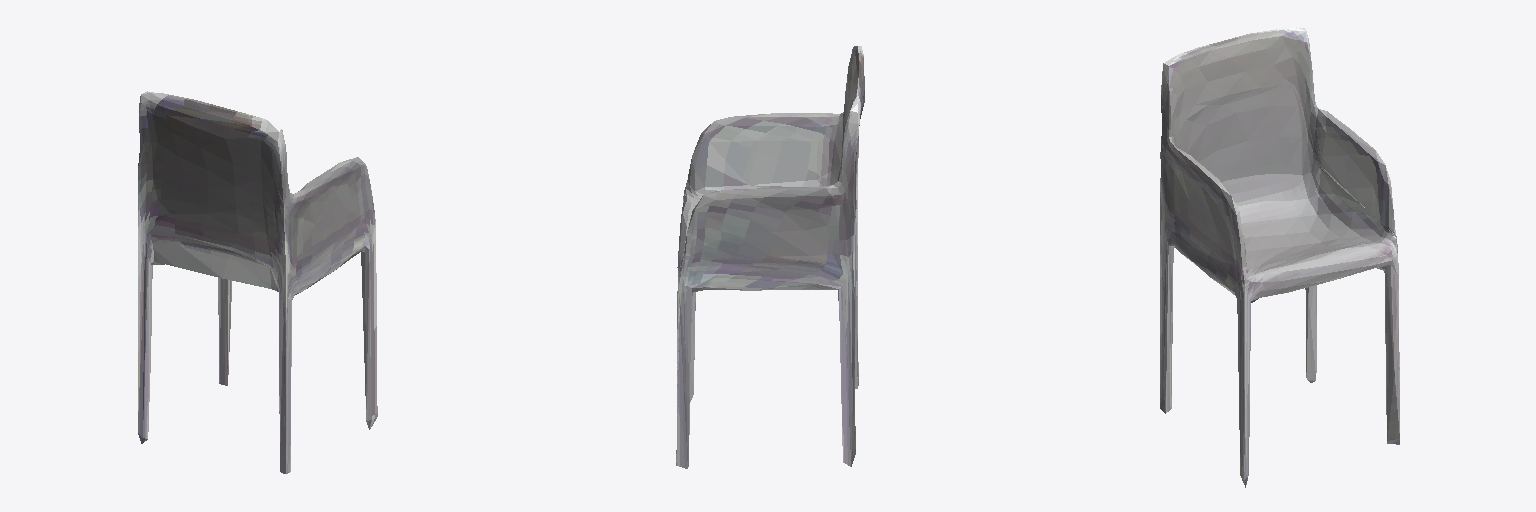
3 renders of one model, left to right at view 1: azimuth 30°, elevation 25°; view 2: azimuth 150°, elevation 25°; view 3: azimuth 270°, elevation 25°, orthographic.
Bounding box in the file's own units: 0.5853 × 1 × 0.5883.
Materials: 1 (1 with a texture image).